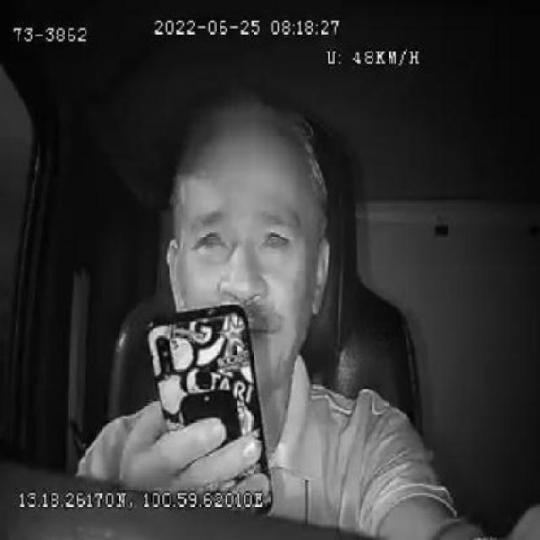phone: (147, 301, 273, 488)
